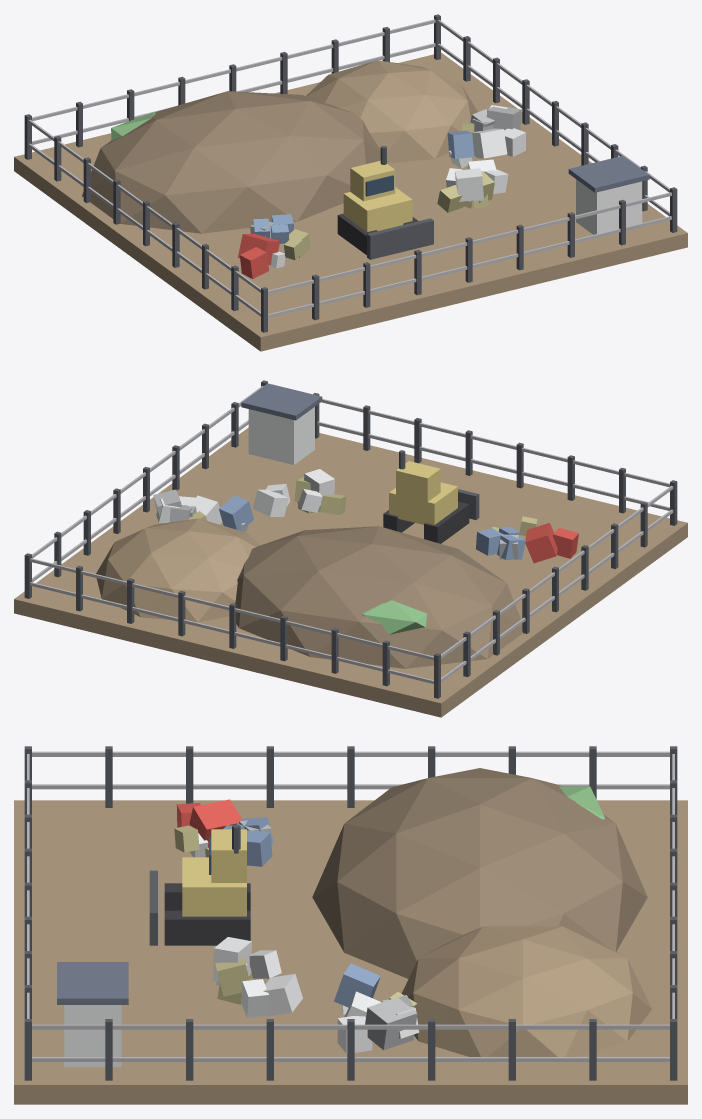
The model's file is landfill.glb.
3 renders of one model, top to bottom at view 1: azimuth 30°, elevation 25°; view 2: azimuth 150°, elevation 25°; view 3: azimuth 270°, elevation 25°, orthographic. The views are drawn at different scales.
Visible parts, largest first — view 1: landfill_body; view 2: landfill_body; view 3: landfill_body.
Part boxes in pixels (x1,y1,x2,y2): landfill_body: [14, 14, 687, 351]; landfill_body: [14, 380, 687, 717]; landfill_body: [14, 746, 687, 1104].
Bounding box in the file's own units: 0.94 × 0.2 × 0.94.
